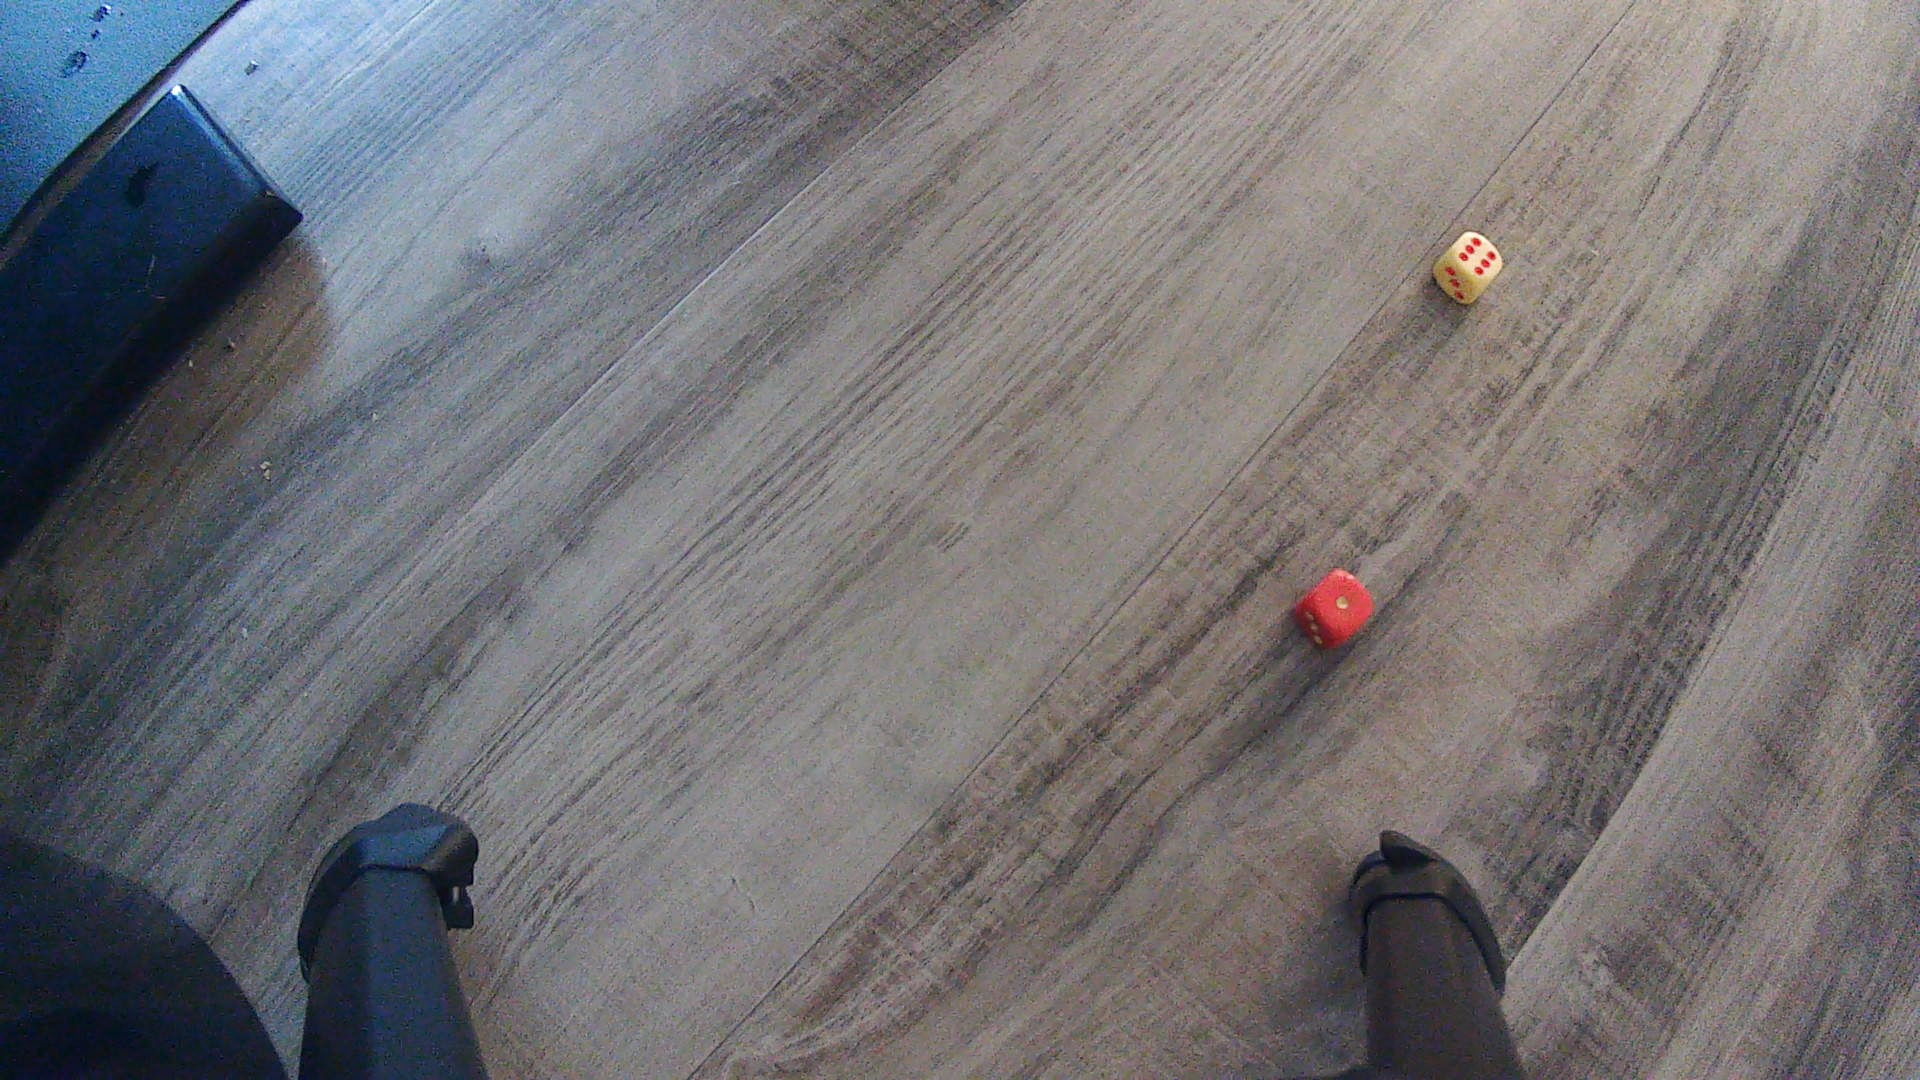die: (1292, 566, 1378, 653), (1429, 228, 1505, 306)
